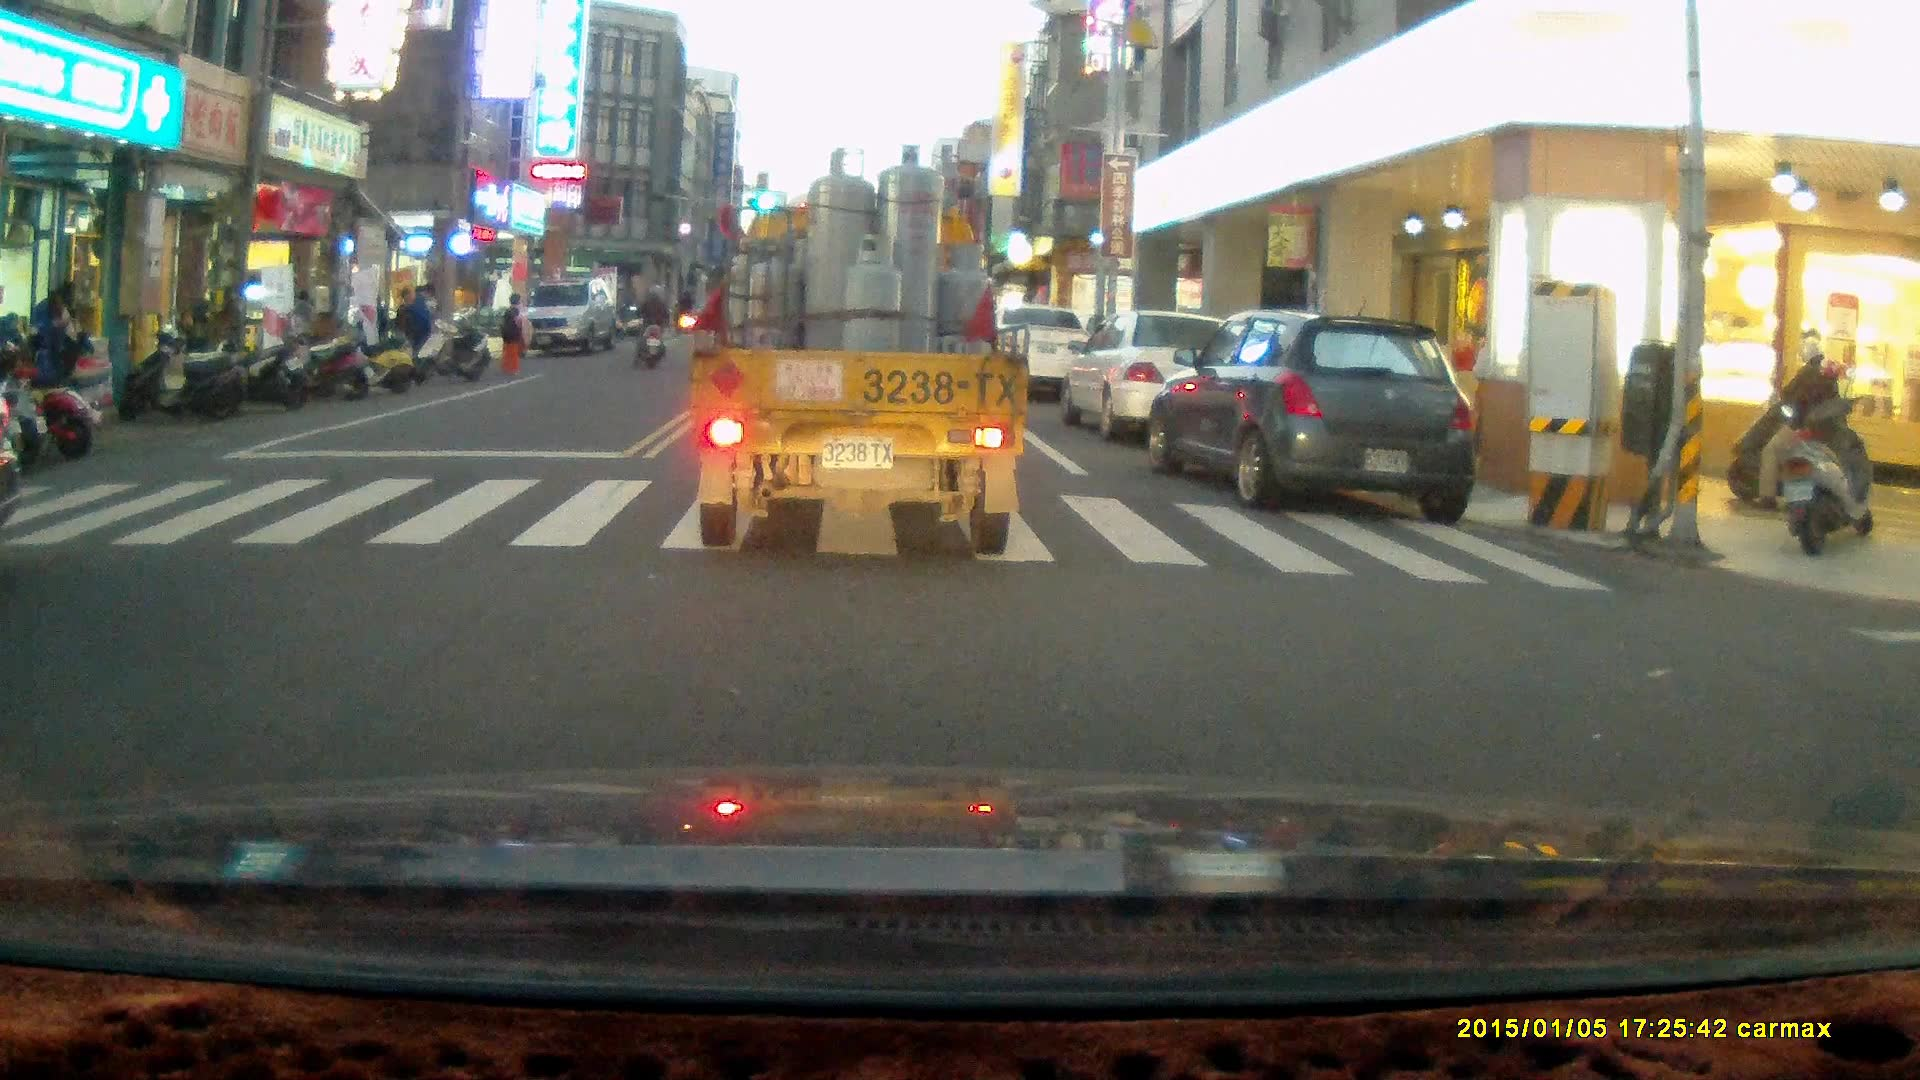pedestrian: (27, 276, 92, 409), (402, 285, 440, 379), (191, 284, 221, 375), (499, 290, 529, 376)
rider: (1724, 332, 1867, 512), (629, 282, 673, 371)
vehicle: (693, 146, 1028, 564), (1141, 309, 1480, 518), (1064, 309, 1257, 439), (977, 302, 1096, 405), (521, 280, 623, 356)
